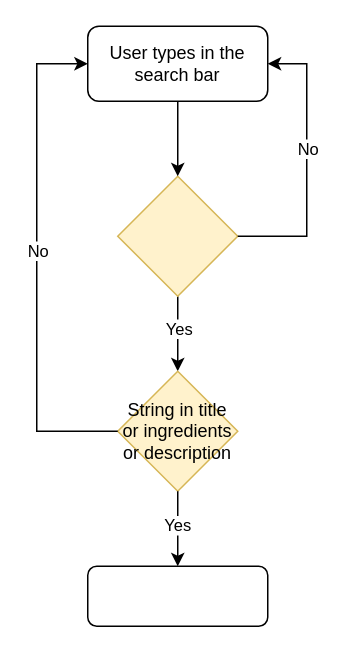
Image size: 345x653. Some labels were removed from this diagram. The shapes that lost their labels are listed below. From the top down, each one's centre as x and y in pixels, then its label:
(x=177, y=235): At least 3 letters
(x=177, y=595): Display the results
